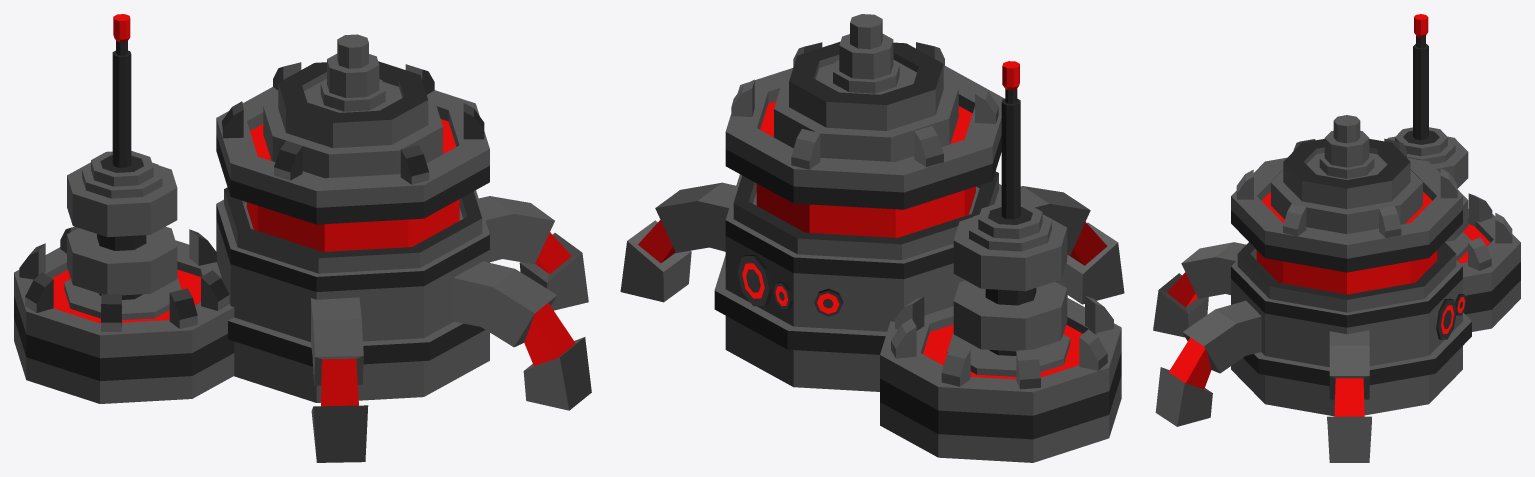
The model's file is enemy_bild_01.FBX.
3 renders of one model, left to right at view 1: azimuth 30°, elevation 25°; view 2: azimuth 150°, elevation 25°; view 3: azimuth 270°, elevation 25°, orthographic. The views are drawn at different scales.
Parts seen in each view (by area): view 1: enemy_bilding_01; view 2: enemy_bilding_01; view 3: enemy_bilding_01.
Part boxes in pixels (x1,y1,x2,y2): enemy_bilding_01: (14, 14, 591, 462); enemy_bilding_01: (620, 14, 1124, 462); enemy_bilding_01: (1153, 14, 1520, 462).
Size of the model in its own units: 2129 by 1382 by 1636.
